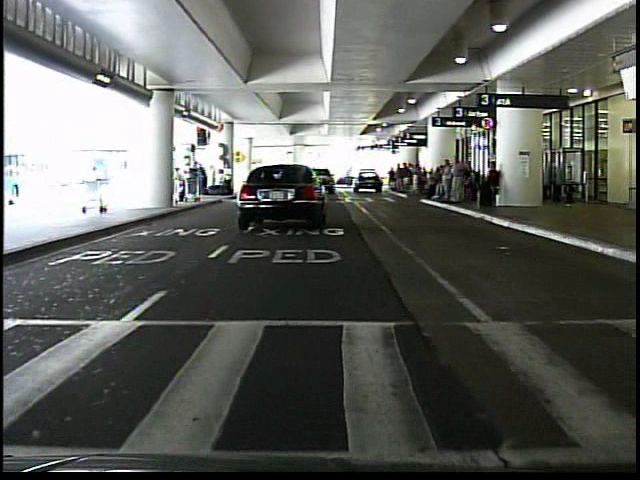person: (448, 152, 470, 209)
